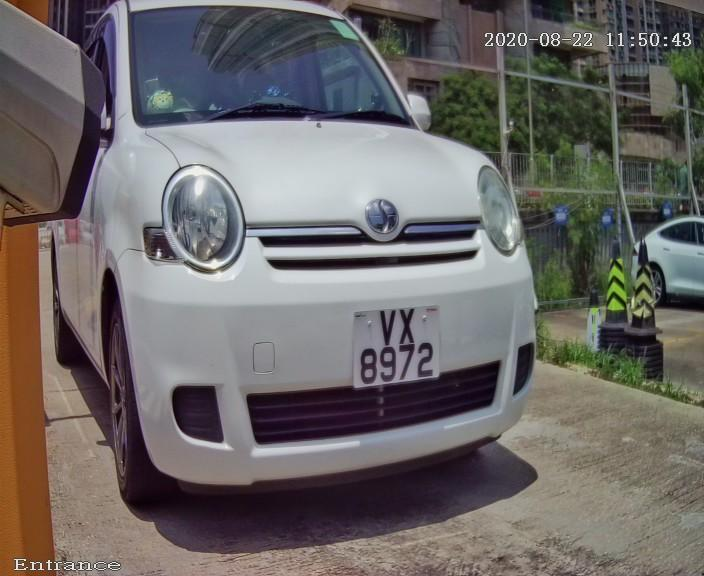Car: (35, 3, 582, 541)
License Plate: (340, 291, 453, 404)
